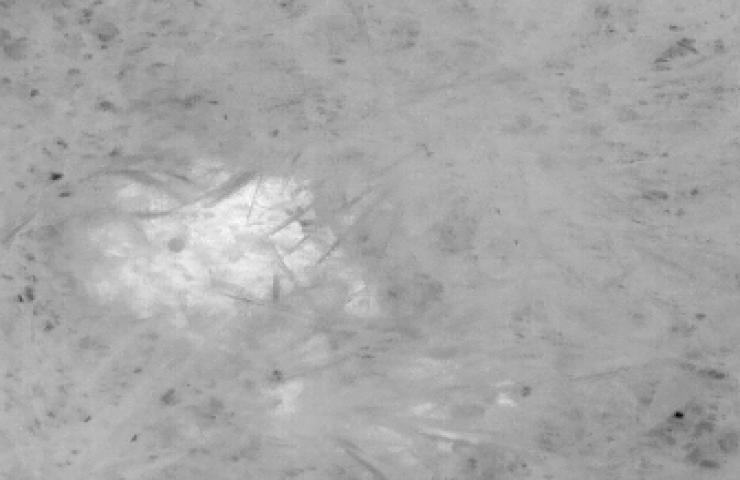landmines: (79, 166, 327, 325)
